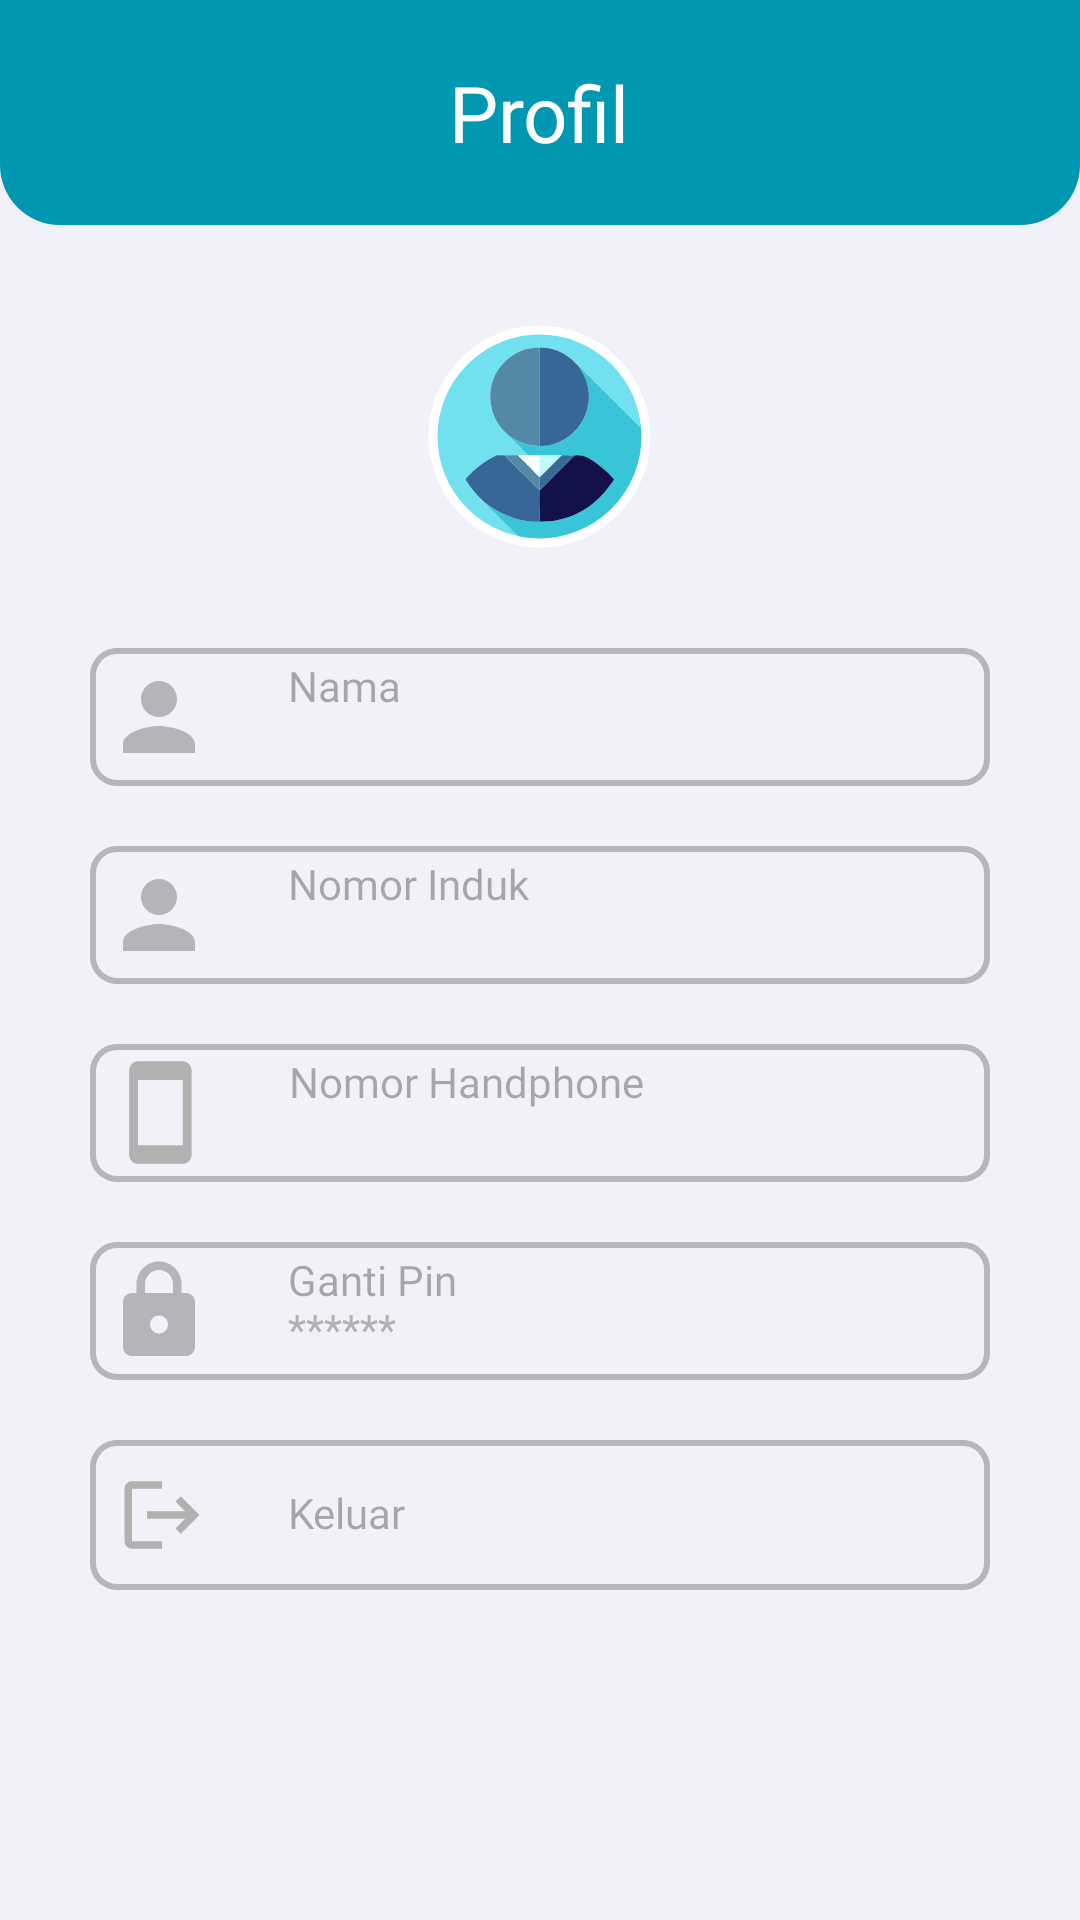

Locate icon controls on the screen. Image size 1080×1920, boxes as bbox(x1, y1, x2, y2).
padlock: bbox(123, 1261, 195, 1356)
